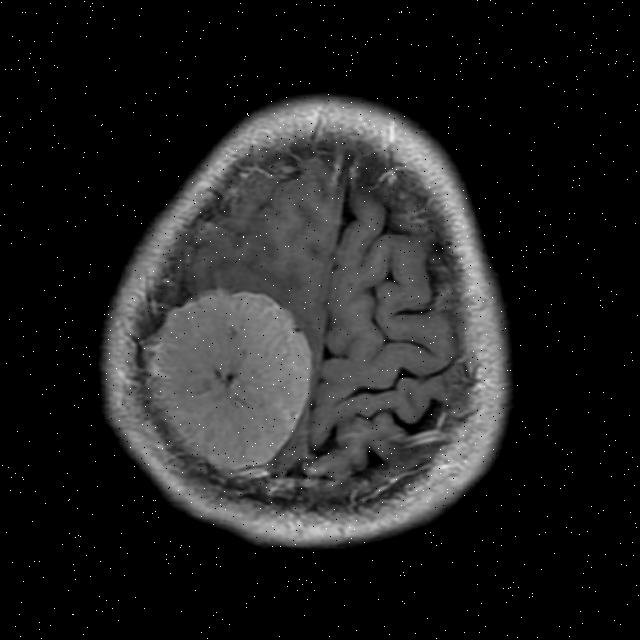Meningioma: (132, 283, 319, 472)
